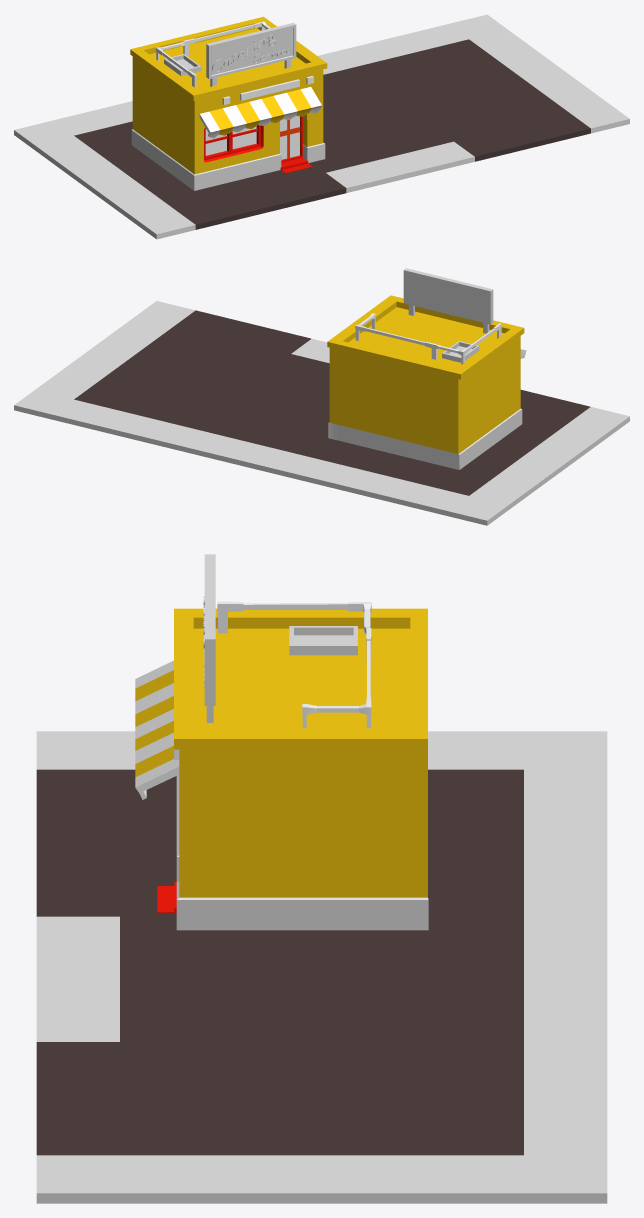
Rendered from Catering_Building_1.fbx.
The picture shows the model from 3 angles, top to bottom: view 1: azimuth 30°, elevation 25°; view 2: azimuth 150°, elevation 25°; view 3: azimuth 270°, elevation 25°; orthographic projection. The views are drawn at different scales.
Visible parts, largest first — view 1: Plan, Building_9, Cop, Cube.007, Stair1, pCube61.001, Text, pCube61, Stair; view 2: Plan, Building_9, Cube.007, pCube61.001, pCube61; view 3: Plan, Building_9, Cop, Cube.007, pCube61, pCube61.001.
Part boxes in pixels (box(x1,y1,x2,y2)): Plan: box(14, 14, 629, 239); Building_9: box(130, 16, 327, 190); Cop: box(199, 87, 321, 138); Cube.007: box(206, 22, 296, 78); Stair1: box(240, 79, 299, 100); pCube61.001: box(183, 21, 270, 55); Text: box(212, 32, 276, 73); pCube61: box(156, 41, 196, 88); Stair: box(280, 157, 312, 173); Plan: box(14, 301, 629, 525); Building_9: box(327, 295, 524, 469); Cube.007: box(403, 268, 493, 324); pCube61.001: box(355, 313, 437, 359); pCube61: box(436, 323, 501, 364); Plan: box(36, 731, 607, 1203); Building_9: box(174, 608, 428, 930); Cop: box(135, 660, 179, 799); Cube.007: box(204, 554, 215, 705); pCube61: box(217, 601, 371, 634); pCube61.001: box(302, 628, 371, 728).
Size of the model in its own units: 1304 by 368 by 681.
